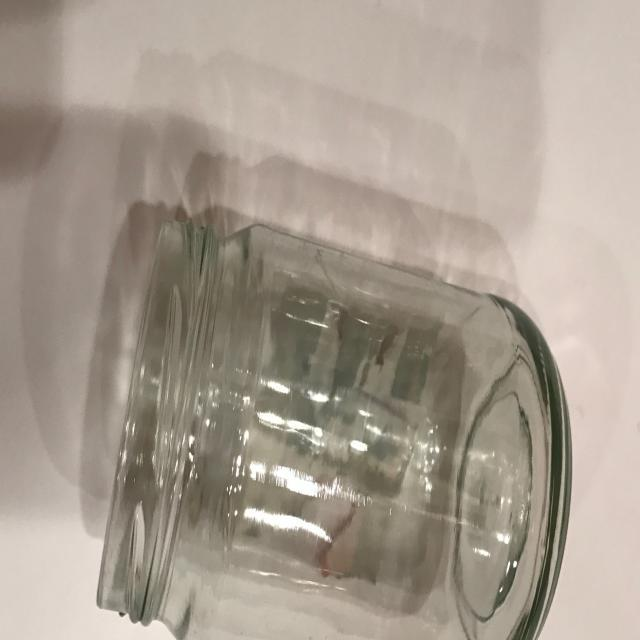glass: (95, 217, 576, 640)
